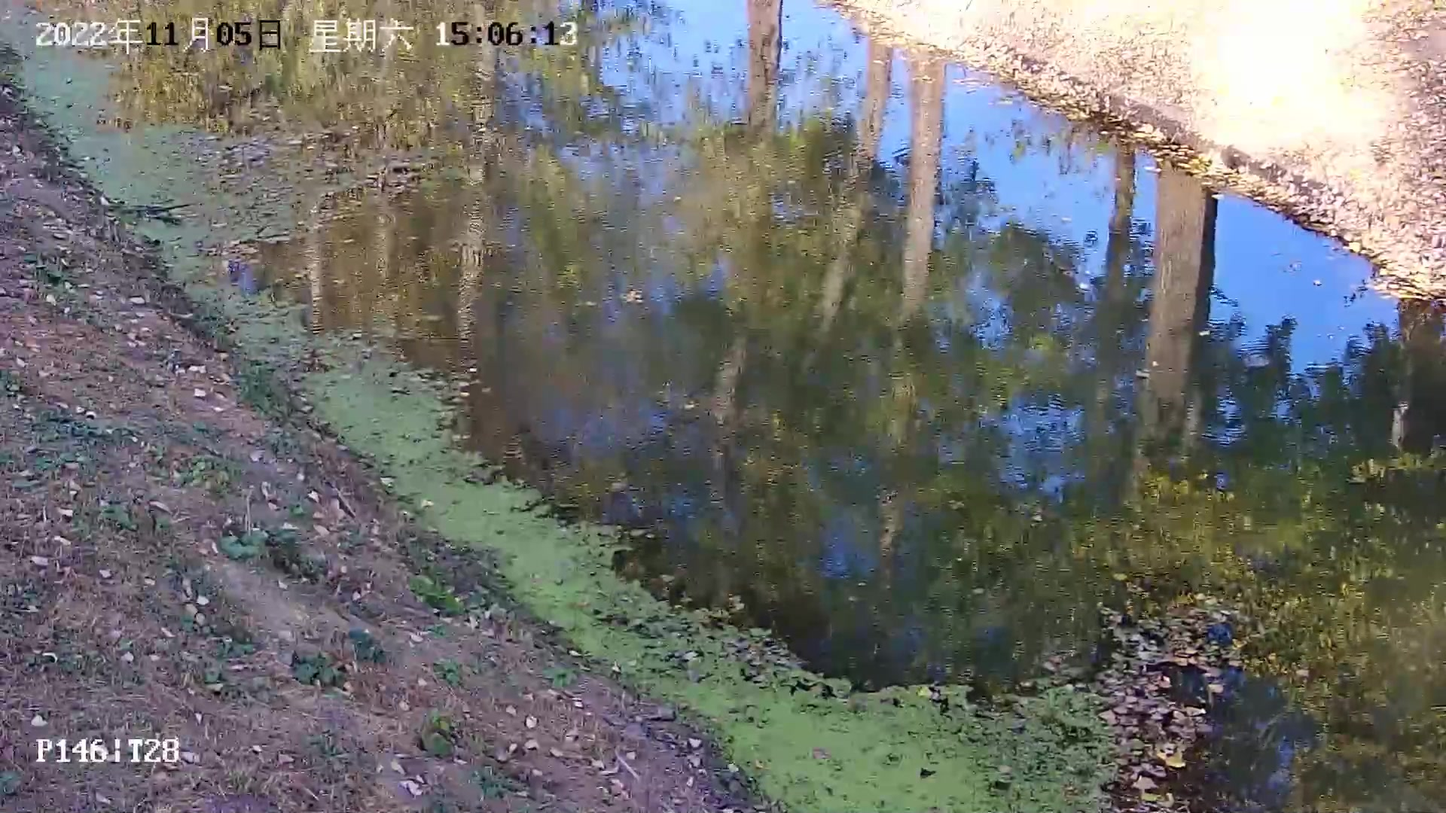floater: (195, 287, 841, 695), (1, 3, 363, 288), (679, 682, 1104, 813), (1100, 583, 1225, 813)
